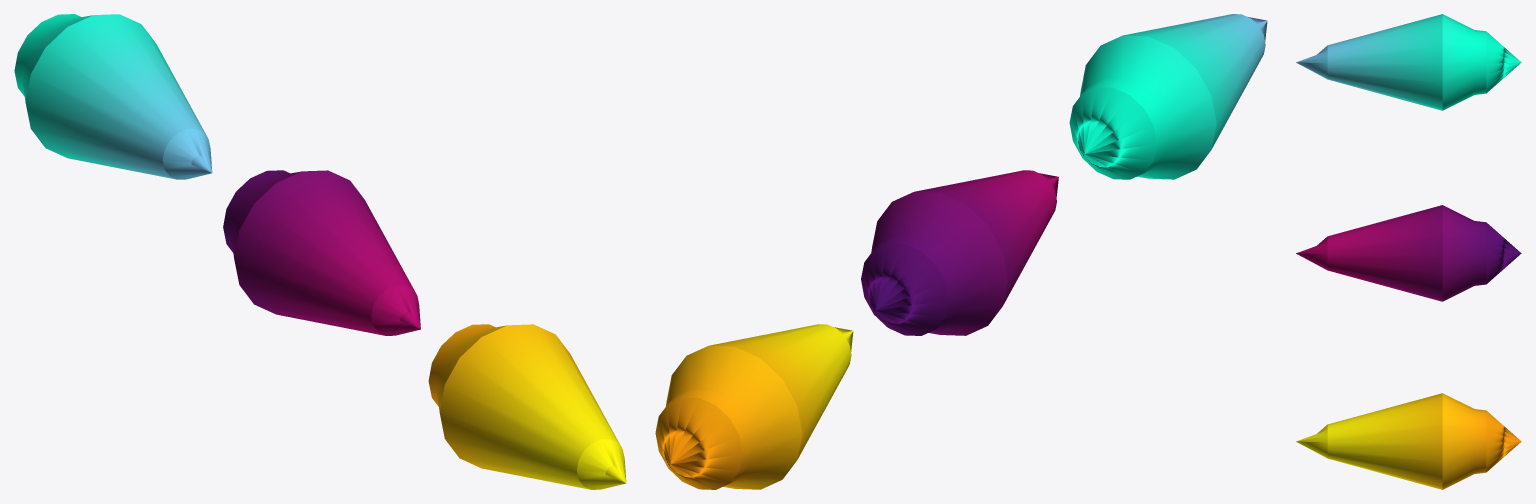
File: Crystals.obj
The picture shows the model from 3 angles, left to right: view 1: azimuth 30°, elevation 25°; view 2: azimuth 150°, elevation 25°; view 3: azimuth 270°, elevation 25°; orthographic projection. The views are drawn at different scales.
Visible parts, largest first — view 1: Light_Crys, Sound_Crys, Physical_Crys; view 2: Physical_Crys, Light_Crys, Sound_Crys; view 3: Sound_Crys, Physical_Crys, Light_Crys.
Part boxes in pixels (left/top/right/bottom): Light_Crys: left=428, top=324, right=626, bottom=489; Sound_Crys: left=223, top=170, right=420, bottom=335; Physical_Crys: left=14, top=14, right=212, bottom=179; Physical_Crys: left=1069, top=14, right=1267, bottom=179; Light_Crys: left=655, top=324, right=853, bottom=489; Sound_Crys: left=861, top=170, right=1058, bottom=335; Sound_Crys: left=1296, top=205, right=1521, bottom=301; Physical_Crys: left=1296, top=14, right=1521, bottom=110; Light_Crys: left=1296, top=393, right=1521, bottom=489.
Bounding box in the file's own units: 215 × 207 × 124.
